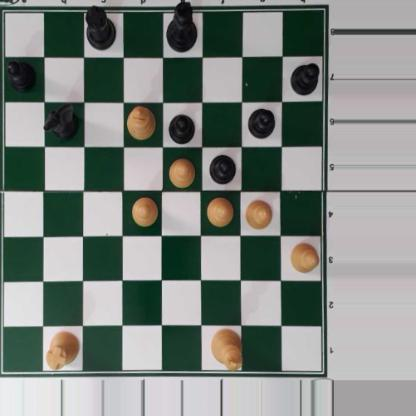black-king: (165, 1, 198, 54)
black-knight: (44, 103, 80, 139)
black-pawn: (290, 61, 320, 95), (6, 59, 35, 91), (247, 106, 275, 138), (168, 113, 196, 144), (209, 152, 236, 184)
black-rook: (84, 5, 119, 49)
white-bishop: (127, 104, 155, 138)
white-king: (210, 328, 243, 372)
white-pawn: (289, 242, 320, 272), (245, 197, 273, 230), (166, 157, 196, 187), (206, 194, 233, 226), (130, 197, 158, 226)
white-rook: (46, 330, 81, 369)
